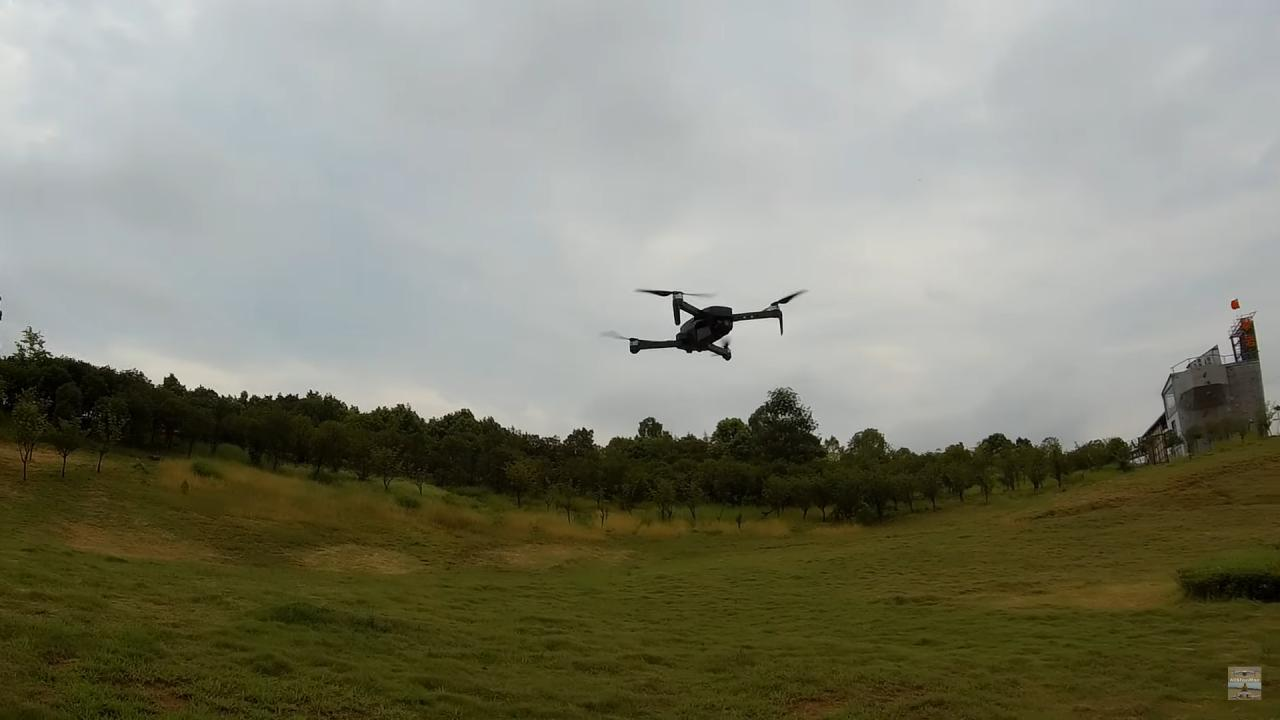Drone: (591, 269, 821, 377)
